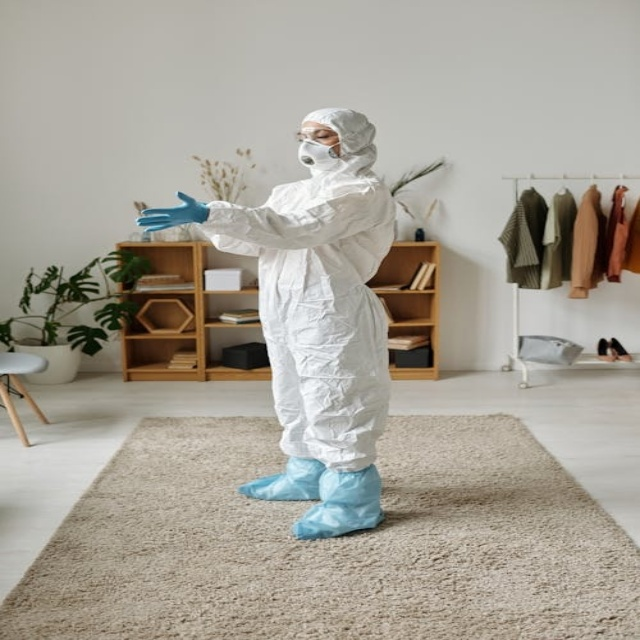Gafas: (295, 128, 341, 143)
Guantes: (135, 192, 211, 235)
Mascara: (298, 139, 344, 168)
